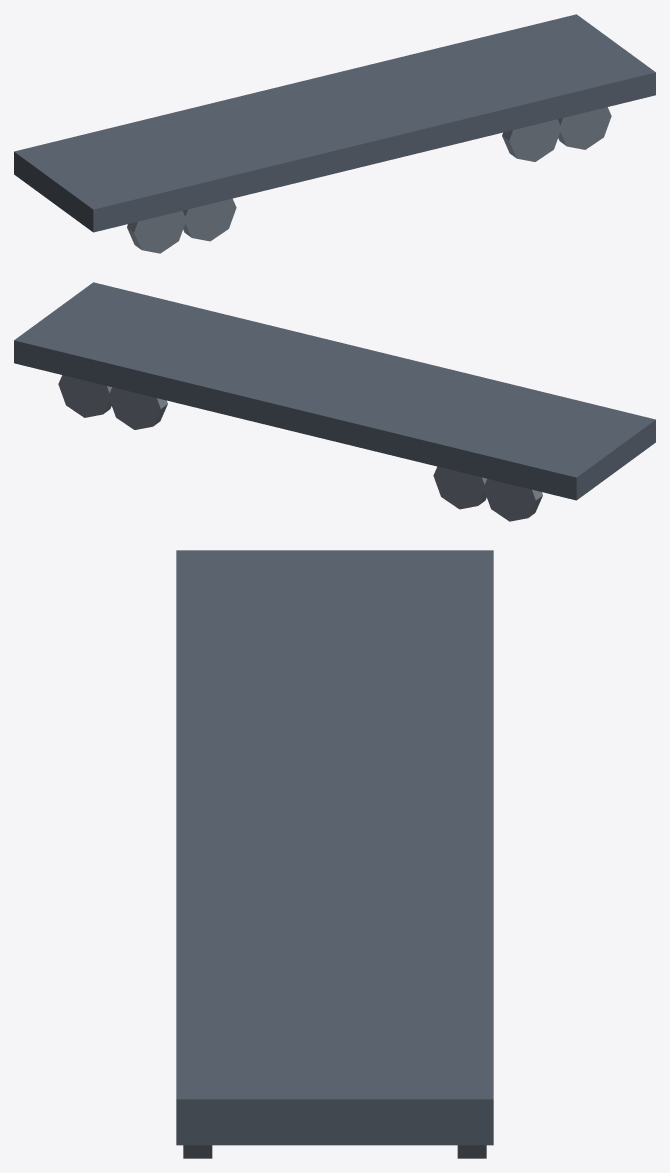
The model's file is wagon.glb.
3 renders of one model, top to bottom at view 1: azimuth 30°, elevation 25°; view 2: azimuth 150°, elevation 25°; view 3: azimuth 270°, elevation 25°, orthographic. The views are drawn at different scales.
Parts seen in each view (by area): view 1: wagon; view 2: wagon; view 3: wagon.
Part boxes in pixels (x1,y1,x2,y2): wagon: (14,14,655,253); wagon: (14,282,655,521); wagon: (176,550,493,1158).
Bounding box in the file's own units: 9 × 0.95 × 2.2.
